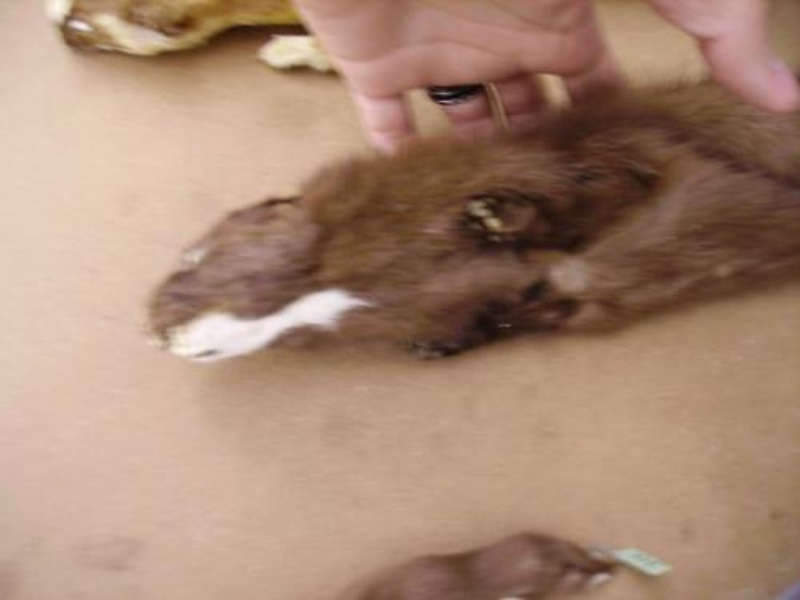minkish: (141, 75, 800, 372)
